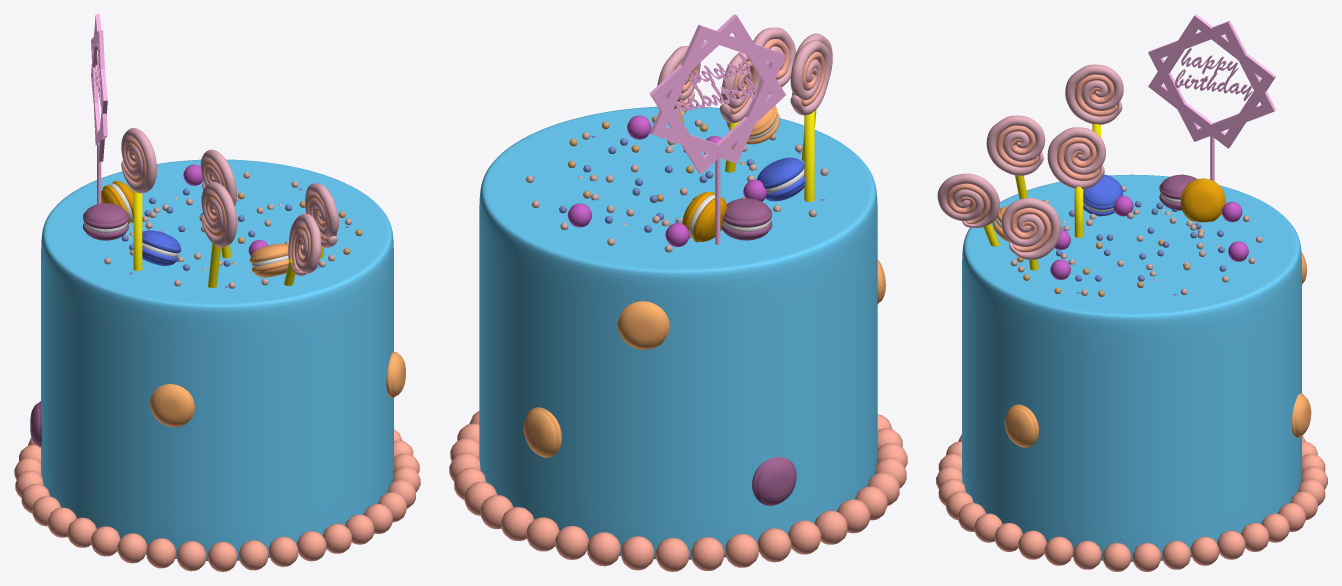
File: Cake_Layer_1_LightBlue_Topper2_SpiralCandy_NoDrip.glb
The picture shows the model from 3 angles, left to right: view 1: azimuth 30°, elevation 25°; view 2: azimuth 150°, elevation 25°; view 3: azimuth 270°, elevation 25°; orthographic projection. The views are drawn at different scales.
Parts seen in each view (by area): view 1: Circle, Sphere, Cylinder.006, Torus.005, Spiral.006, Spiral.004, Spiral.008, Torus.003, Spiral.010, Torus.013, Sphere.004, Torus.011 (+7 smaller); view 2: Circle, Sphere, Cylinder.006, Torus.009, Spiral.004, Torus.010, Torus.003, Torus.007, Torus.013, Sphere.004, Torus.001, Spiral.002 (+6 smaller); view 3: Circle, Sphere, Cylinder.006, Spiral.002, Spiral.010, Spiral.006, Spiral.004, Spiral.008, Torus.001, Torus.006, Sphere.004, Torus.013 (+9 smaller).
Part boxes in pixels (bbox=[...]): Circle: bbox=[41, 159, 393, 560]; Sphere: bbox=[14, 429, 420, 571]; Cylinder.006: bbox=[91, 14, 107, 204]; Torus.005: bbox=[150, 384, 194, 427]; Spiral.006: bbox=[201, 182, 237, 247]; Spiral.004: bbox=[121, 128, 156, 193]; Spiral.008: bbox=[288, 213, 321, 275]; Torus.003: bbox=[83, 203, 128, 240]; Spiral.010: bbox=[305, 183, 339, 247]; Torus.013: bbox=[142, 230, 181, 265]; Sphere.004: bbox=[104, 172, 351, 288]; Torus.011: bbox=[249, 243, 288, 277]; Circle: bbox=[479, 106, 877, 559]; Sphere: bbox=[449, 411, 907, 571]; Cylinder.006: bbox=[649, 14, 785, 244]; Torus.009: bbox=[617, 301, 669, 349]; Spiral.004: bbox=[790, 40, 830, 115]; Torus.010: bbox=[752, 457, 796, 505]; Torus.003: bbox=[721, 198, 772, 240]; Torus.007: bbox=[523, 407, 561, 457]; Torus.013: bbox=[757, 157, 805, 201]; Sphere.004: bbox=[526, 119, 828, 252]; Torus.001: bbox=[682, 191, 727, 242]; Spiral.002: bbox=[719, 52, 760, 123]; Circle: bbox=[962, 174, 1301, 561]; Sphere: bbox=[936, 434, 1327, 571]; Cylinder.006: bbox=[1148, 14, 1275, 181]; Spiral.002: bbox=[1047, 127, 1105, 189]; Spiral.010: bbox=[1001, 197, 1060, 259]; Spiral.006: bbox=[986, 115, 1045, 175]; Spiral.004: bbox=[1065, 64, 1123, 124]; Spiral.008: bbox=[937, 173, 999, 227]; Torus.001: bbox=[1180, 178, 1225, 222]; Torus.006: bbox=[1004, 404, 1038, 447]; Sphere.004: bbox=[1010, 185, 1262, 295]; Torus.013: bbox=[1083, 174, 1123, 215].
Size of the model in its own units: 0.1712 by 0.213 by 0.1718.
